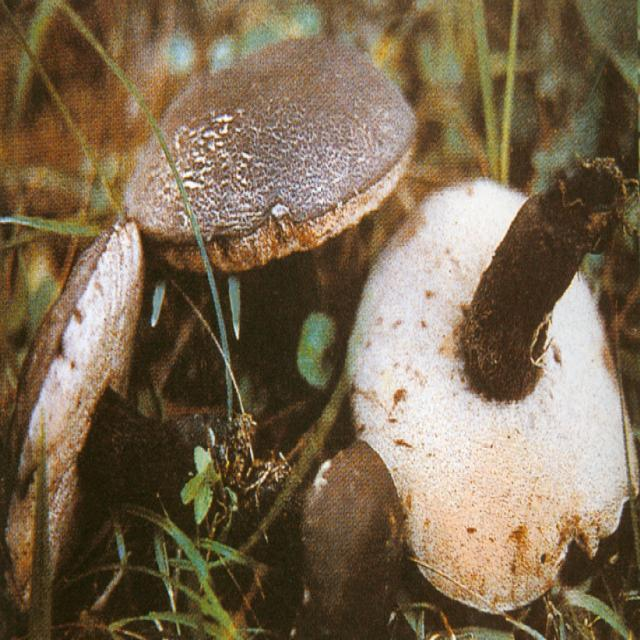Boletus: (353, 161, 638, 607), (13, 222, 303, 626), (128, 45, 416, 400)
